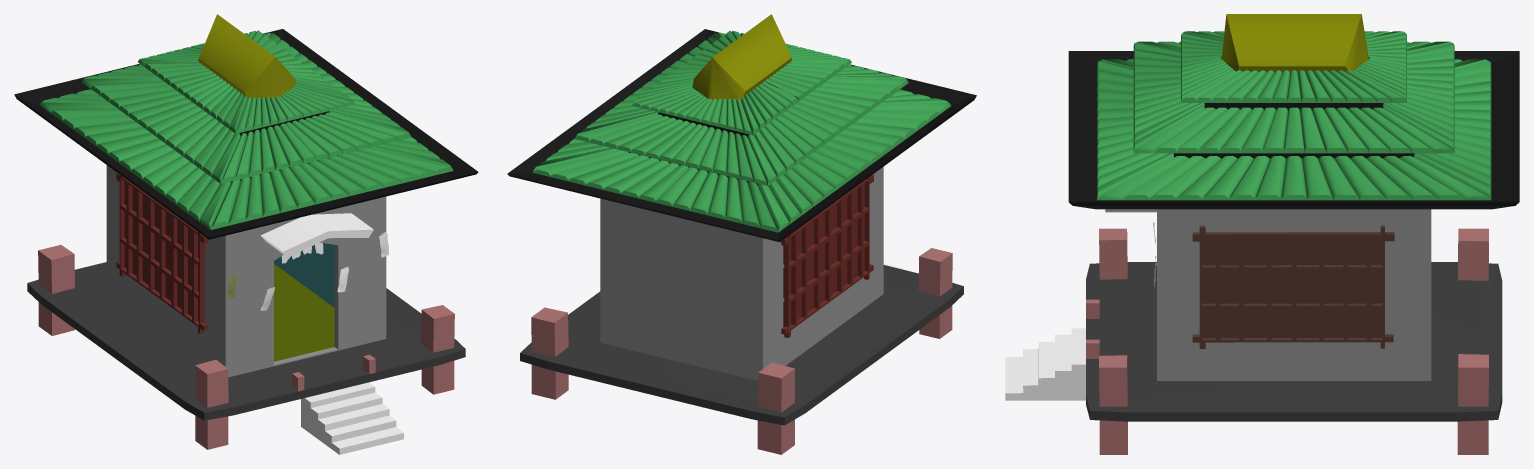
Rendered from Temple Shrine alt 7.FBX.
3 views of the same model, side by side, from view 1: azimuth 30°, elevation 25°; view 2: azimuth 150°, elevation 25°; view 3: azimuth 270°, elevation 25° (orthographic). The views are drawn at different scales.
Parts seen in each view (by area): view 1: shrine, R_WAll, Left F_WAll, Right F_WAll, Right F_LEG, Left F_LEG, Right B_LEG, L_WAll, Floor; view 2: shrine, B_WAll, R_WAll, Right B_LEG, Left B_LEG, Right F_LEG; view 3: shrine, L_WAll, Left B_LEG, Left F_LEG, Right B_LEG, Right F_LEG.
Part boxes in pixels (x1=…): shrine: x1=14, y1=14, x2=478, y2=454; R_WAll: x1=106, y1=165, x2=225, y2=366; Left F_WAll: x1=334, y1=196, x2=386, y2=350; Right F_WAll: x1=225, y1=230, x2=273, y2=377; Right F_LEG: x1=185, y1=360, x2=234, y2=449; Left F_LEG: x1=421, y1=305, x2=465, y2=394; Right B_LEG: x1=27, y1=245, x2=74, y2=335; L_WAll: x1=274, y1=243, x2=334, y2=307; Floor: x1=274, y1=278, x2=334, y2=355; shrine: x1=507, y1=14, x2=976, y2=418; B_WAll: x1=600, y1=198, x2=762, y2=380; R_WAll: x1=763, y1=167, x2=883, y2=368; Right B_LEG: x1=751, y1=362, x2=805, y2=454; Left B_LEG: x1=520, y1=307, x2=568, y2=399; Right F_LEG: x1=918, y1=248, x2=963, y2=338; shrine: x1=1005, y1=14, x2=1519, y2=421; L_WAll: x1=1157, y1=209, x2=1431, y2=380; Left B_LEG: x1=1457, y1=354, x2=1502, y2=454; Left F_LEG: x1=1086, y1=355, x2=1127, y2=454; Right B_LEG: x1=1458, y1=228, x2=1502, y2=280; Right F_LEG: x1=1086, y1=228, x2=1127, y2=279.
Bounding box in the file's own units: 406 × 465 × 584.
